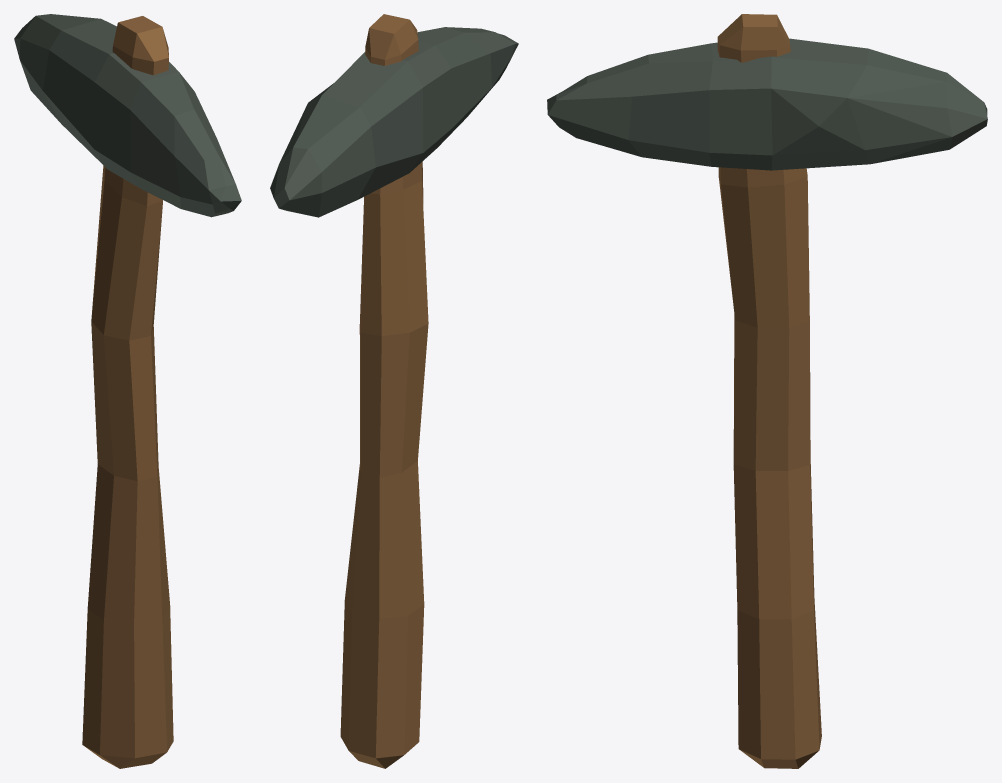
Rendered from StonePickAxe.fbx.
3 renders of one model, left to right at view 1: azimuth 30°, elevation 25°; view 2: azimuth 150°, elevation 25°; view 3: azimuth 270°, elevation 25°, orthographic. The views are drawn at different scales.
Parts seen in each view (by area): view 1: StonePickAxe; view 2: StonePickAxe; view 3: StonePickAxe.
Boxes of the visible parts, <box> form: StonePickAxe: <box>14,14,241,768</box>; StonePickAxe: <box>270,14,518,768</box>; StonePickAxe: <box>547,14,987,768</box>.
Bounding box in the file's own units: 12.42 × 103 × 55.64.
